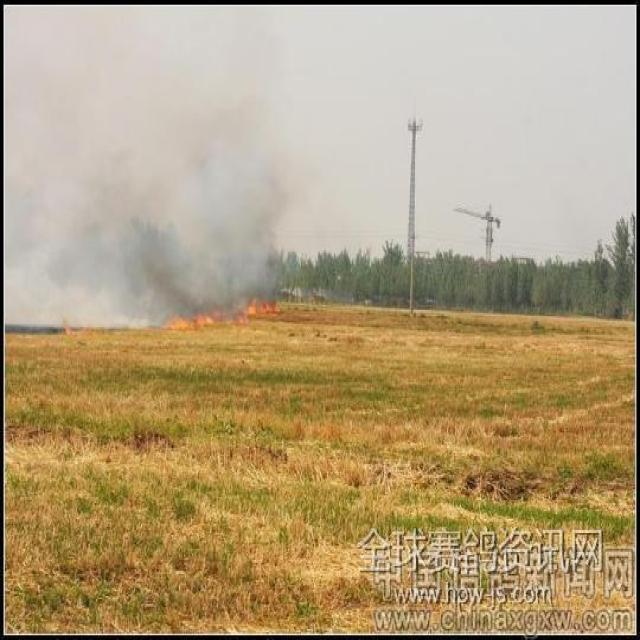fire: (155, 304, 229, 326), (235, 290, 279, 323)
smoke: (21, 31, 119, 304), (148, 101, 273, 270)
